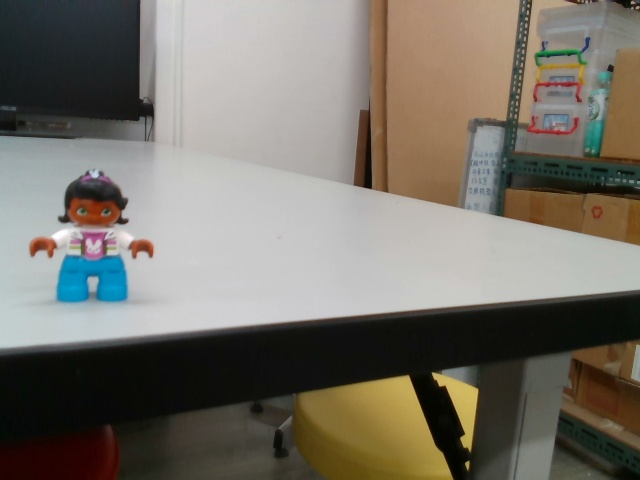people: (25, 165, 159, 308)
